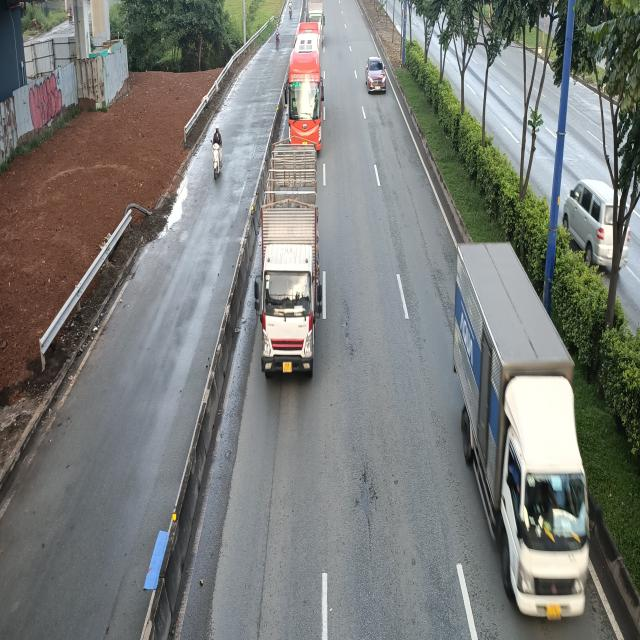car: (365, 56, 386, 94)
coach: (282, 21, 324, 154)
truck: (455, 243, 594, 622), (254, 142, 324, 378)
